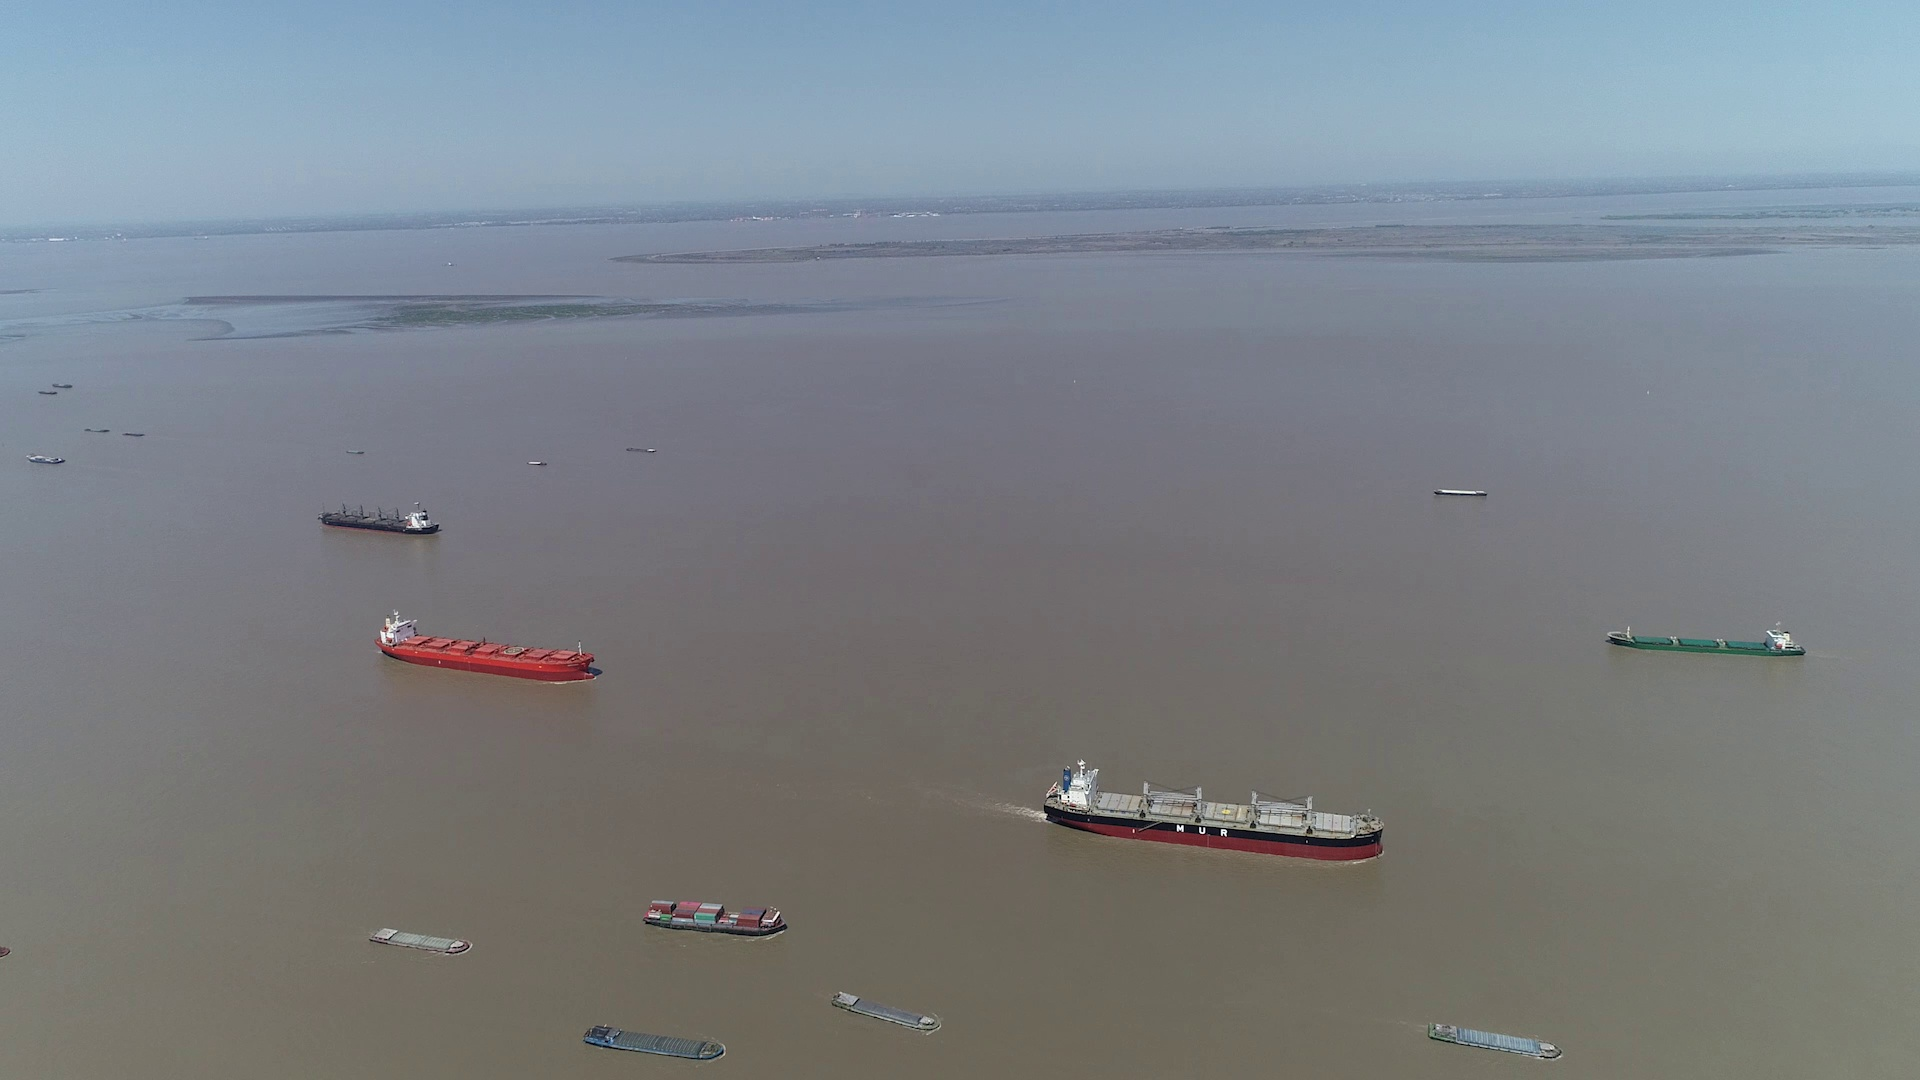ship: (1048, 762, 1387, 862), (378, 611, 595, 684), (1605, 626, 1812, 655), (644, 899, 787, 939), (583, 1027, 724, 1064), (1429, 1023, 1561, 1062), (829, 992, 942, 1034), (316, 501, 438, 535), (369, 926, 469, 953), (26, 454, 69, 465), (1433, 488, 1485, 497), (626, 446, 657, 454)
